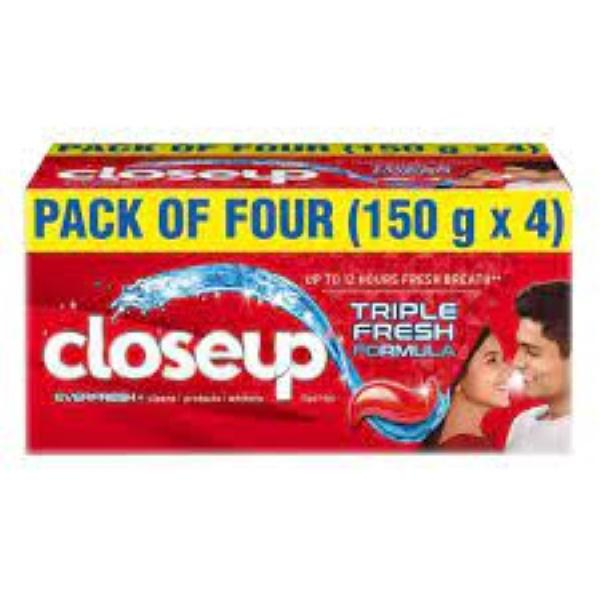CloseUp: (13, 94, 583, 486)
